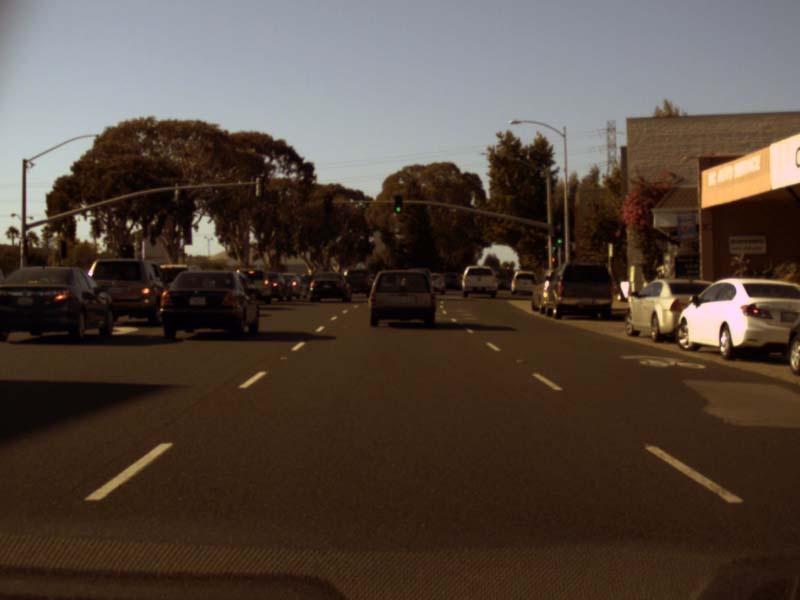Green: (555, 226, 562, 245), (395, 194, 402, 212)
